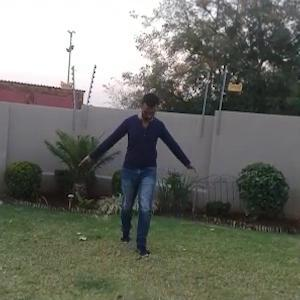land: (86, 85, 211, 272)
